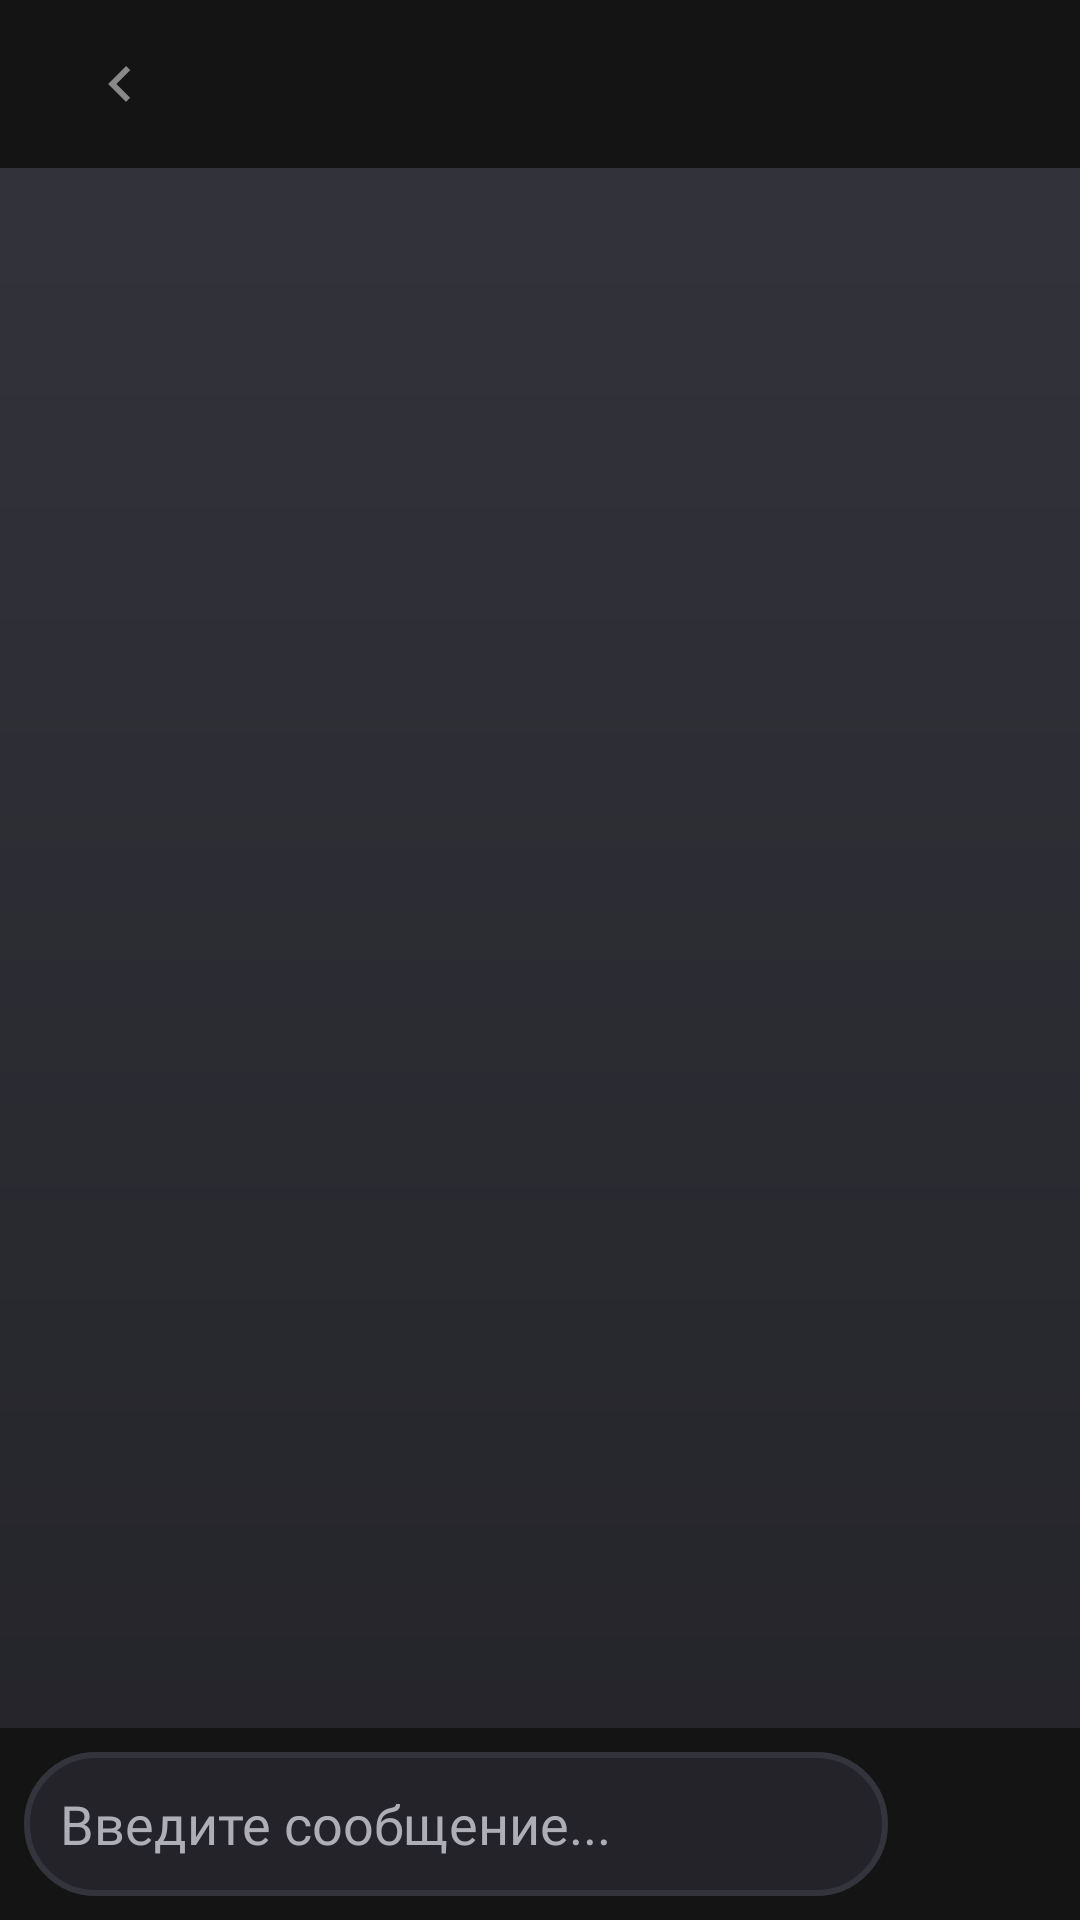

Icons on this 1080 × 1920 Android screen, each with its box as [x1, y1, x2, y2]:
Назад: [108, 66, 130, 102]
